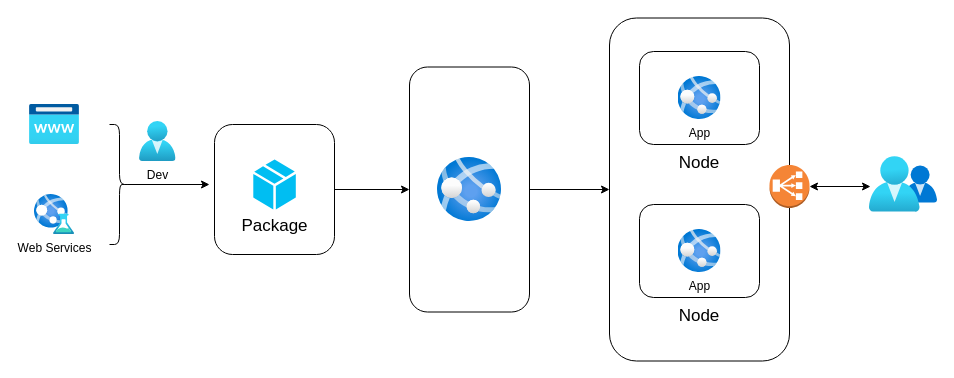
The diagram is 954 pixels wide and 378 high, and some of its shapes have lost their labels. Here are the shapes that lost their labels. From the top down, the centre of each, then its label:
(54,124): Web App
(469,189): App Services
